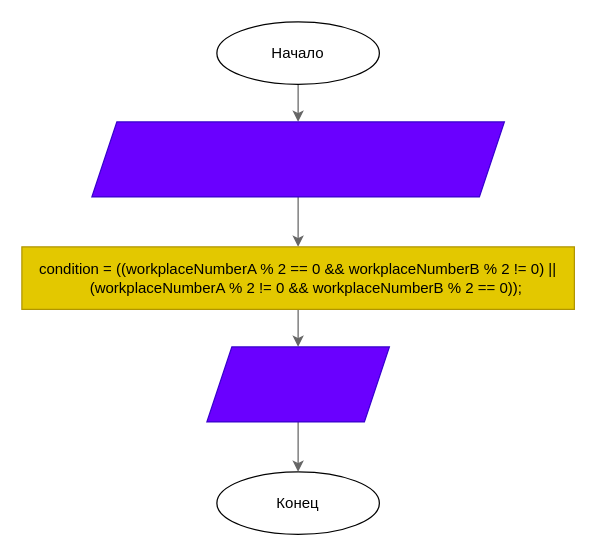
The diagram is 596 pixels wide and 556 high, and some of its shapes have lost their labels. Each missing label, with the box of its shape:
condition: (206, 346, 389, 422)
int workplaceNumberA, workplaceNumberB, condition: (91, 121, 504, 197)
